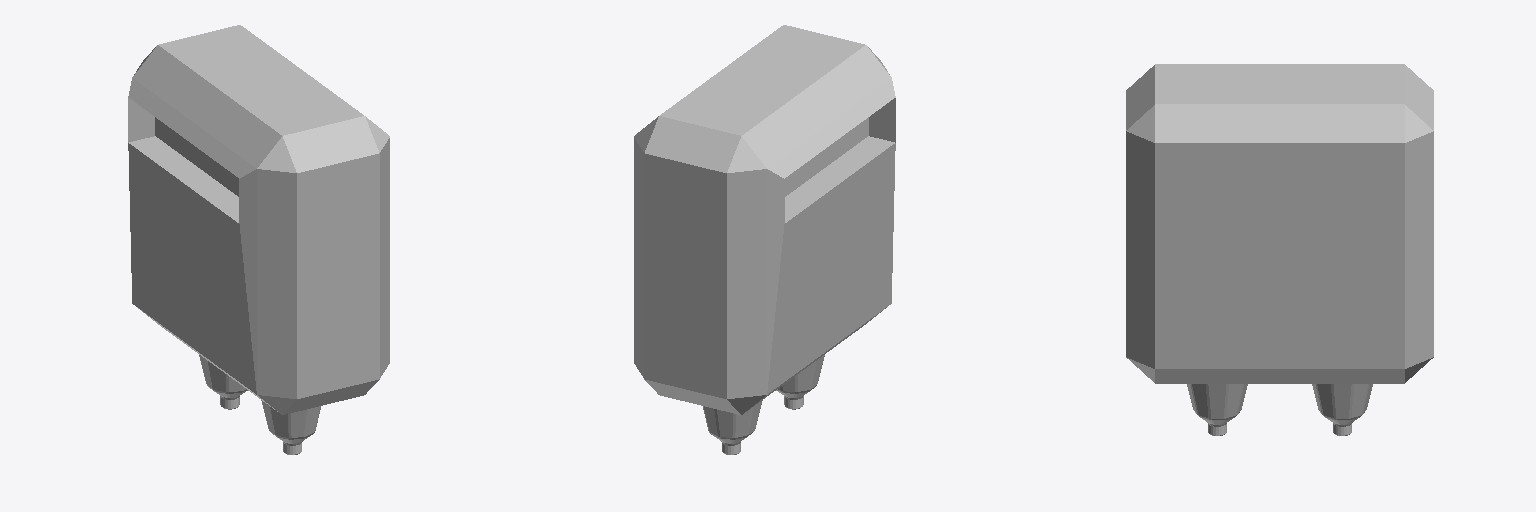
File: jetpack.obj
3 renders of one model, left to right at view 1: azimuth 30°, elevation 25°; view 2: azimuth 150°, elevation 25°; view 3: azimuth 270°, elevation 25°, orthographic.
Visible parts, largest first — view 1: Cube; view 2: Cube; view 3: Cube.
Boxes of the visible parts, box(x1,y1,x2,y2) form: Cube: box(128, 25, 389, 454); Cube: box(634, 25, 895, 454); Cube: box(1126, 64, 1433, 435).
Bounding box in the file's own units: 1.08 × 2.5 × 2.